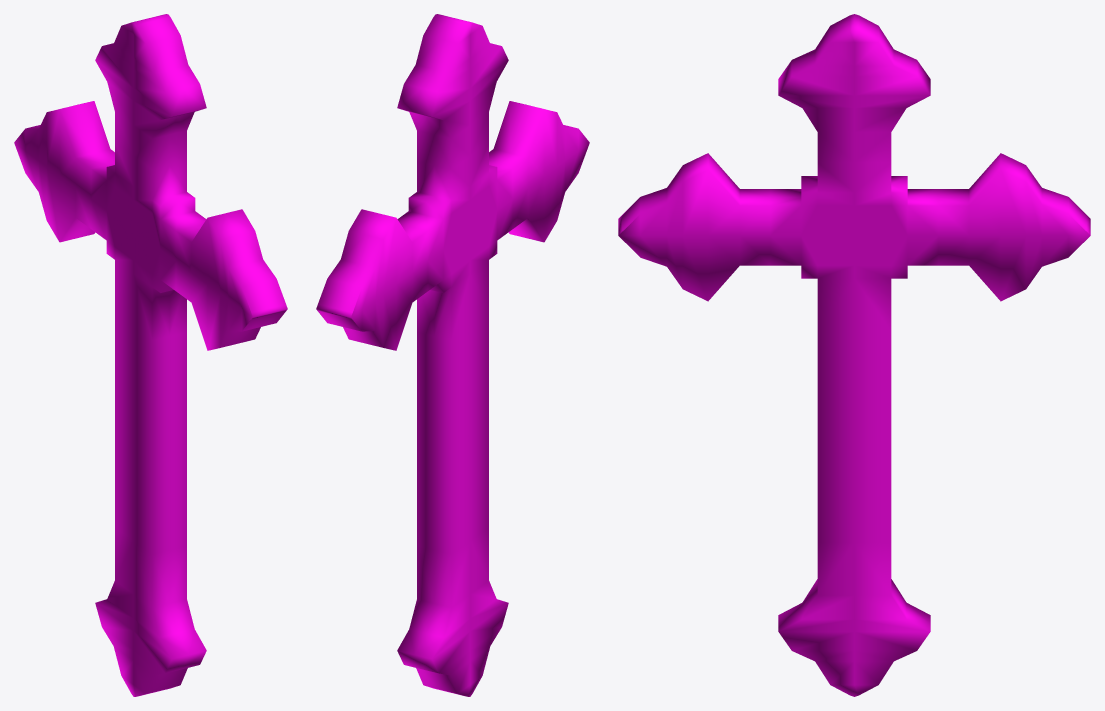
The model's file is cross.glb.
The picture shows the model from 3 angles, left to right: view 1: azimuth 30°, elevation 25°; view 2: azimuth 150°, elevation 25°; view 3: azimuth 270°, elevation 25°; orthographic projection.
Visible parts, largest first — view 1: Cross; view 2: Cross; view 3: Cross.
Part boxes in pixels (left/top/right/bottom): Cross: left=14, top=14, right=287, bottom=696; Cross: left=316, top=14, right=589, bottom=696; Cross: left=618, top=14, right=1090, bottom=696.
Bounding box in the file's own units: 0.2413 × 4.46 × 2.87.
